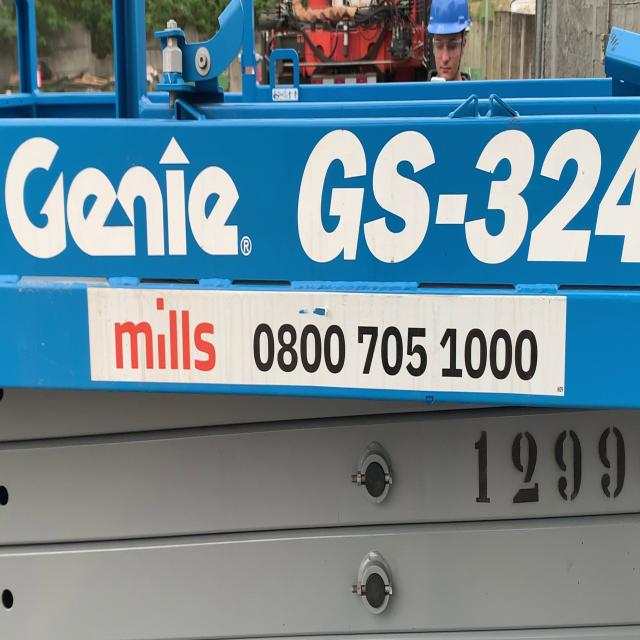Adesivo Longo: (84, 281, 571, 400)
